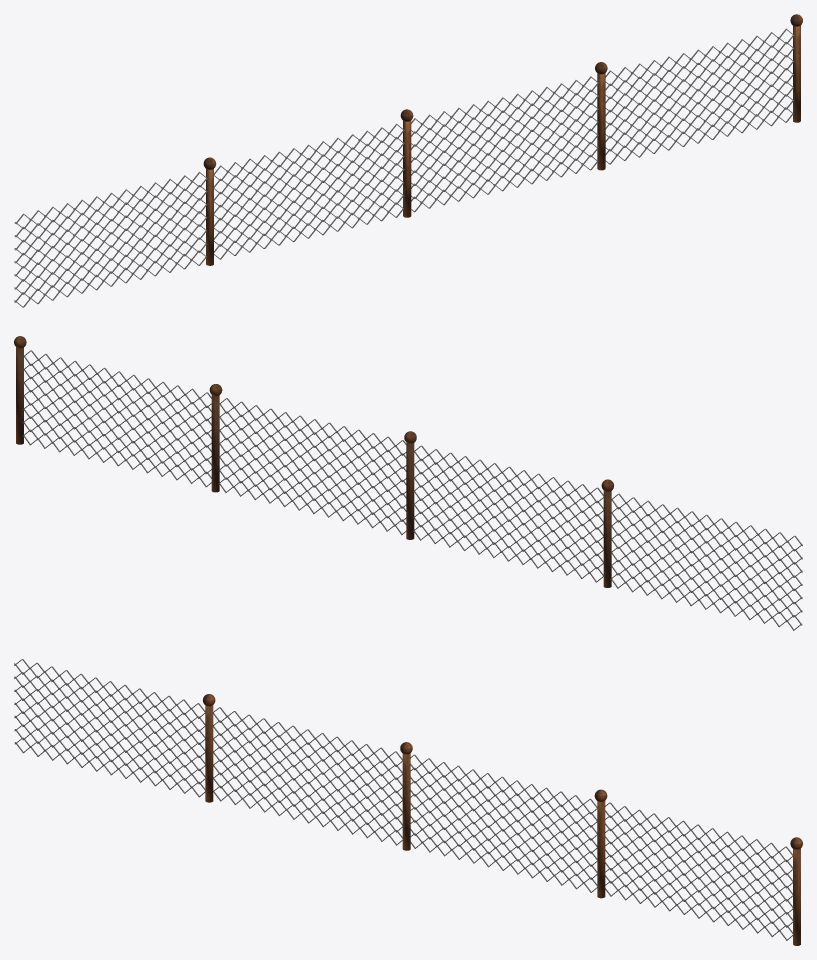
File: pagarsebelah.fbx
3 renders of one model, top to bottom at view 1: azimuth 30°, elevation 25°; view 2: azimuth 150°, elevation 25°; view 3: azimuth 330°, elevation 25°, orthographic.
Parts seen in each view (by area): view 1: Cube.046, Cube.047, Cube.045, Cube.044; view 2: Cube.047, Cube.046, Cube.045, Cube.044; view 3: Cube.046, Cube.047, Cube.045, Cube.044.
Boxes of the visible parts, x1,y1,x2,y2 form: Cube.046: (214, 109, 413, 259); Cube.047: (14, 157, 216, 307); Cube.045: (411, 62, 607, 212); Cube.044: (605, 14, 802, 164); Cube.047: (601, 479, 802, 630); Cube.046: (404, 431, 603, 582); Cube.045: (209, 384, 406, 535); Cube.044: (14, 336, 211, 487); Cube.046: (212, 707, 412, 850); Cube.047: (14, 659, 215, 802); Cube.045: (409, 754, 607, 898); Cube.044: (604, 802, 802, 945).
Bounding box in the file's own units: 1526 × 197 × 21.12.
2 materials, 1 textured.
